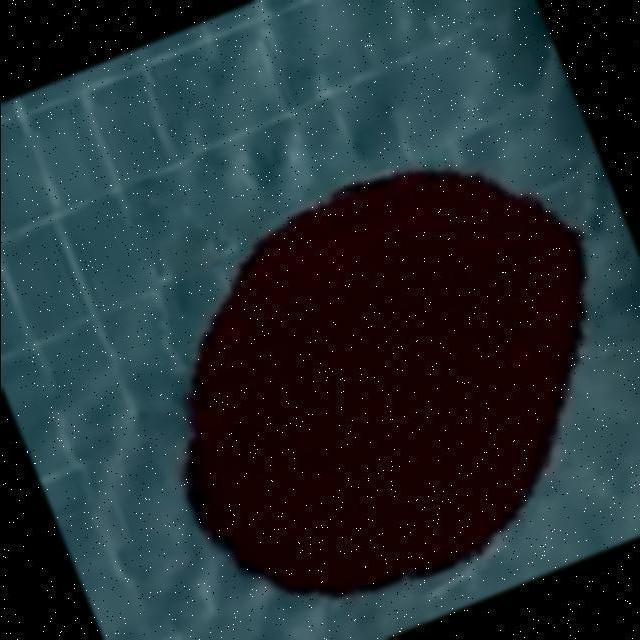Circle: (176, 170, 594, 601)
